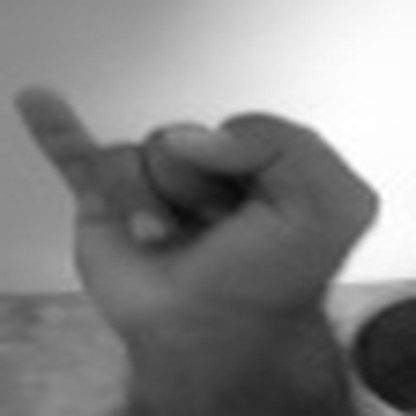i: (8, 74, 383, 325)
